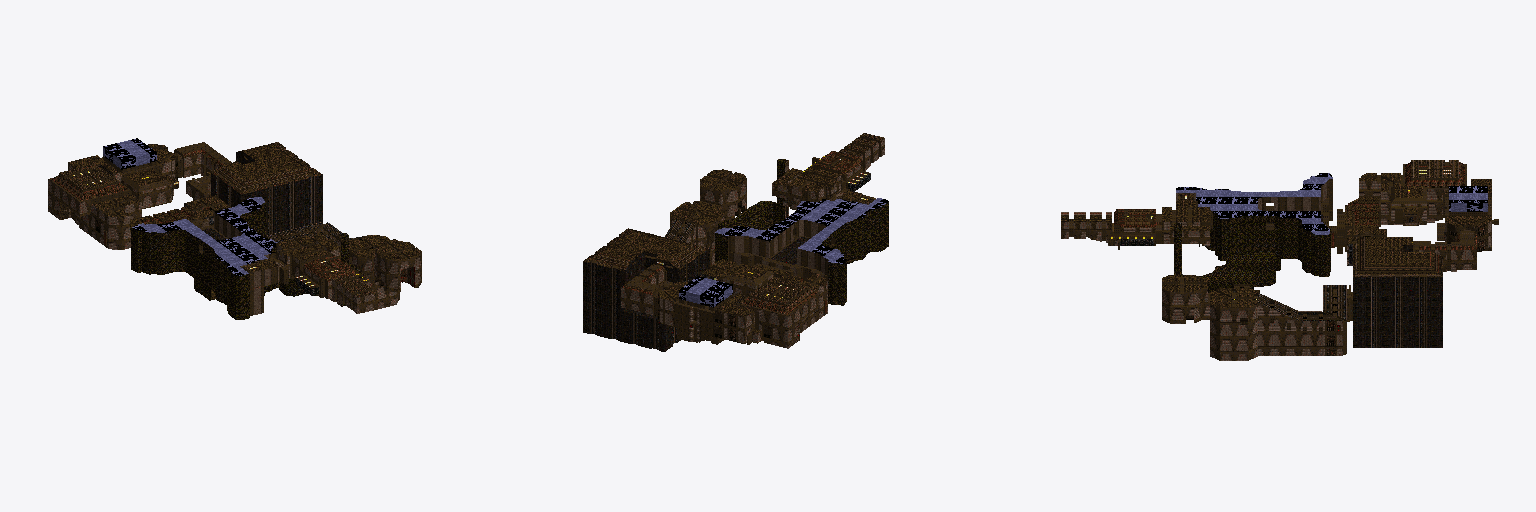
3 views of the same model, side by side, from view 1: azimuth 30°, elevation 25°; view 2: azimuth 150°, elevation 25°; view 3: azimuth 270°, elevation 25° (orthographic).
Visible parts, largest first — view 1: mesh_tech08_1, mesh_uwall1_2, mesh_tech01_6, mesh_sky4, mesh_tech01_1, mesh_twall5_1, mesh_tech04_1, mesh_tech04_3, mesh_twall2_6, mesh_tech07_2, mesh_tech01_7, mesh_twall2_5; view 2: mesh_tech08_1, mesh_tech01_6, mesh_uwall1_2, mesh_sky4, mesh_twall5_1, mesh_tech04_1, mesh_tech07_2, mesh_tech01_1, mesh_twall2_6, mesh_tech04_3, mesh_tech10_1, mesh_tech01_7 (+1 smaller); view 3: mesh_tech08_1, mesh_uwall1_2, mesh_tech01_6, mesh_twall5_1, mesh_sky4, mesh_tech04_3, mesh_twall2_6, mesh_tech01_1, mesh_tech04_1, mesh_tech07_2, mesh_tech01_7, mesh_tech11_2 (+1 smaller).
Part boxes in pixels (x1,y1,x2,y2): mesh_tech08_1: (48, 154, 421, 313); mesh_uwall1_2: (131, 202, 364, 319); mesh_tech01_6: (68, 144, 420, 272); mesh_sky4: (103, 138, 277, 275); mesh_tech01_1: (60, 142, 377, 297); mesh_twall5_1: (211, 151, 322, 234); mesh_tech04_1: (49, 147, 414, 299); mesh_tech04_3: (130, 142, 386, 309); mesh_twall2_6: (98, 143, 367, 242); mesh_tech07_2: (195, 199, 278, 315); mesh_tech01_7: (183, 149, 355, 280); mesh_twall2_5: (52, 175, 209, 209); mesh_tech08_1: (621, 138, 884, 348); mesh_tech01_6: (602, 167, 874, 333); mesh_uwall1_2: (715, 159, 888, 305); mesh_sky4: (679, 198, 888, 307); mesh_twall5_1: (583, 248, 709, 351); mesh_tech04_1: (591, 155, 862, 344); mesh_tech07_2: (728, 194, 875, 279); mesh_tech01_1: (583, 133, 883, 303); mesh_twall2_6: (590, 219, 744, 349); mesh_tech04_3: (627, 136, 880, 344); mesh_tech10_1: (675, 304, 723, 343); mesh_tech01_7: (622, 151, 862, 294); mesh_tech08_1: (1061, 181, 1476, 360); mesh_uwall1_2: (1174, 213, 1330, 292); mesh_tech01_6: (1162, 173, 1491, 307); mesh_twall5_1: (1353, 245, 1442, 347); mesh_sky4: (1176, 173, 1487, 234); mesh_tech04_3: (1069, 196, 1473, 354); mesh_twall2_6: (1258, 214, 1442, 347); mesh_tech01_1: (1061, 160, 1458, 276); mesh_tech04_1: (1122, 162, 1491, 293); mesh_tech07_2: (1176, 179, 1332, 220); mesh_tech01_7: (1114, 209, 1476, 249); mesh_tech11_2: (1324, 201, 1491, 355).
Size of the model in its own units: 2096 by 864 by 3480.
Materials: 67 (67 with a texture image).